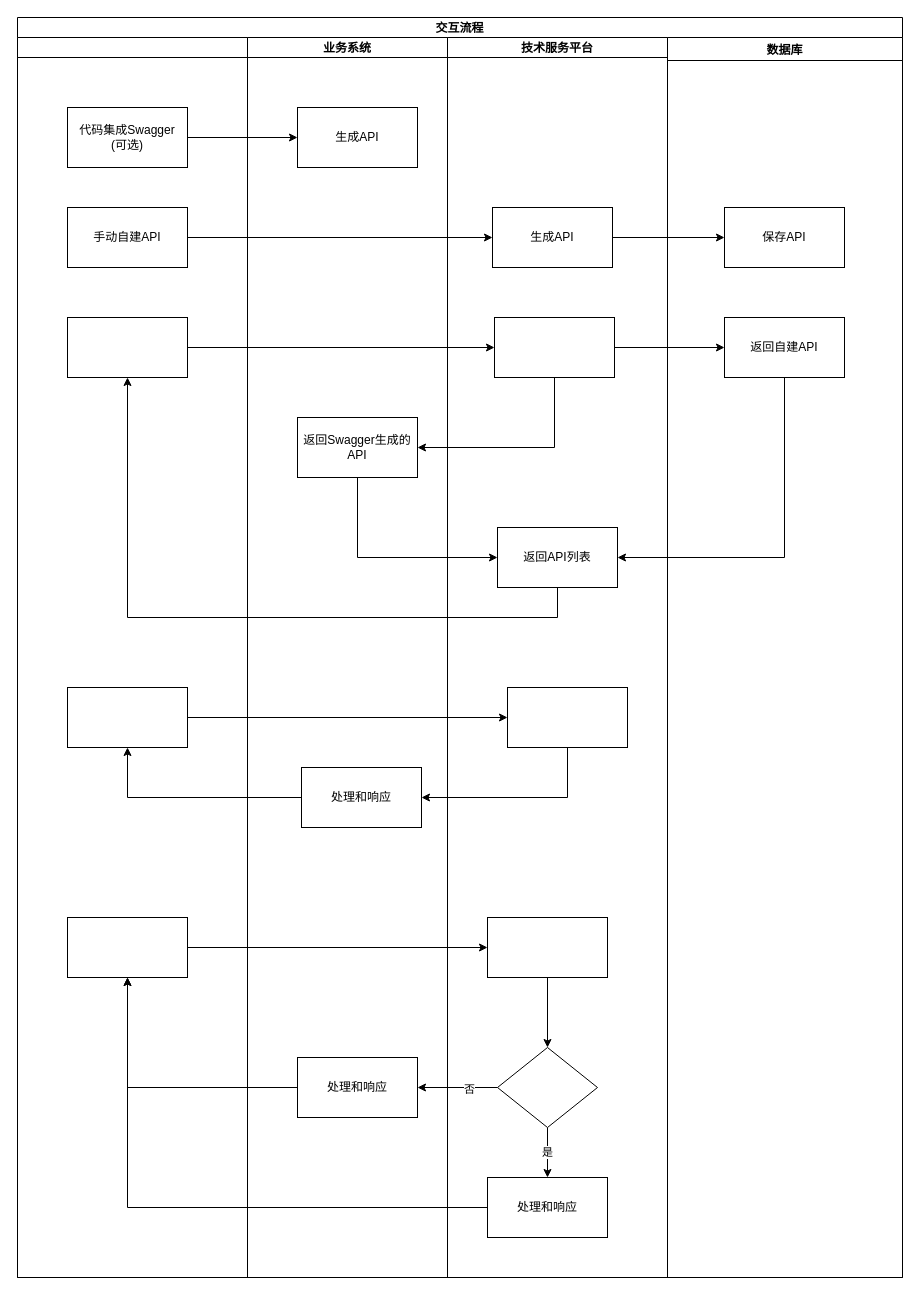
The diagram is 920 pixels wide and 1295 high, and some of its shapes have lost their labels. Each missing label, with the box of its shape:
在线查看API: (66, 316, 188, 378)
在线调试API: (66, 686, 188, 748)
开发人员: (16, 36, 248, 1278)
是否命中Mock规则: (496, 1046, 598, 1128)
查询Mock规则: (486, 916, 608, 978)
获取API: (494, 316, 614, 378)
请求 Mock API: (66, 916, 188, 978)
请求转发: (506, 686, 628, 748)
